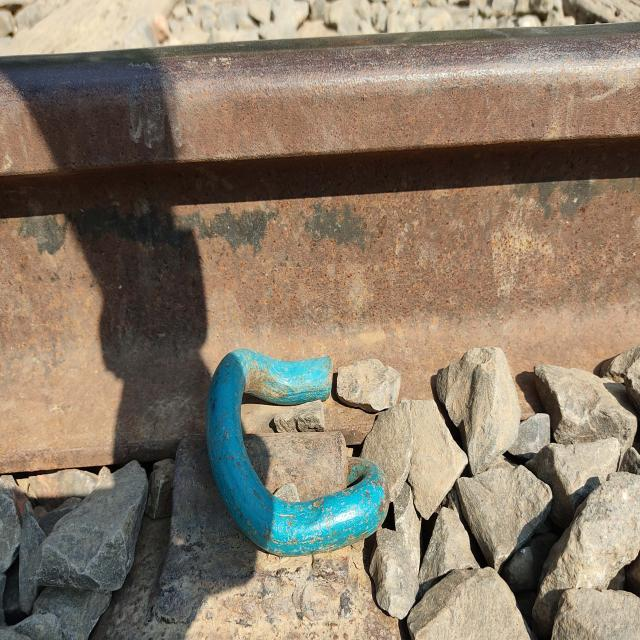Good Fasteners: (151, 349, 390, 629)
